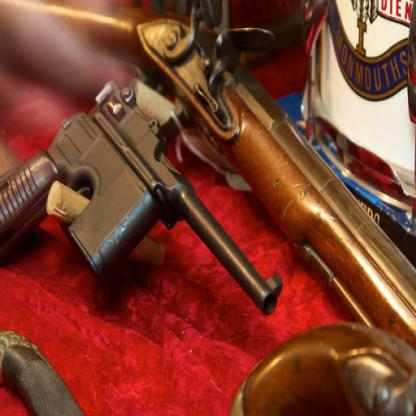gun: (0, 76, 283, 318)
